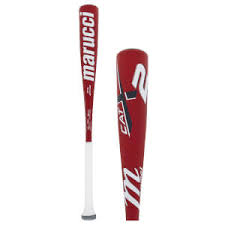baseball bat: (115, 47, 148, 221), (80, 4, 99, 221)
